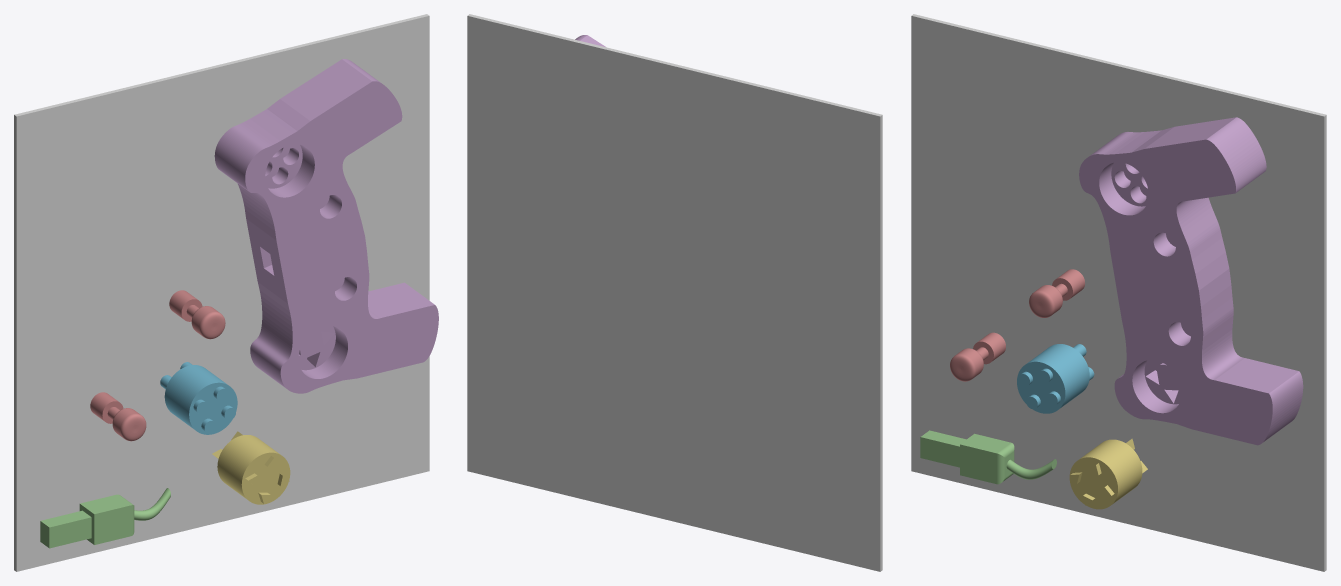
Rendered from pickup_layout.glb.
The picture shows the model from 3 angles, left to right: view 1: azimuth 30°, elevation 25°; view 2: azimuth 150°, elevation 25°; view 3: azimuth 330°, elevation 25°; orthographic projection.
Parts seen in each view (by area): view 1: world, 3.obj, 4.obj, 2.obj, 1.obj, 5.obj, 0.obj; view 2: world; view 3: world, 3.obj, 4.obj, 2.obj, 1.obj, 5.obj, 0.obj.
Part boxes in pixels (x1,y1,x2,y2): world: (14,14,429,571); 3.obj: (214,59,438,393); 4.obj: (40,488,170,548); 2.obj: (160,362,237,434); 1.obj: (212,431,290,504); 5.obj: (90,392,146,441); 0.obj: (169,290,225,339); world: (467,14,882,571); world: (911,14,1326,571); 3.obj: (1079,117,1303,445); 4.obj: (920,430,1056,484); 2.obj: (1017,344,1094,413); 1.obj: (1069,438,1147,509); 5.obj: (950,332,1005,381); 0.obj: (1029,269,1085,317).
Size of the model in its own units: 19.59 by 20.65 by 3.2.
